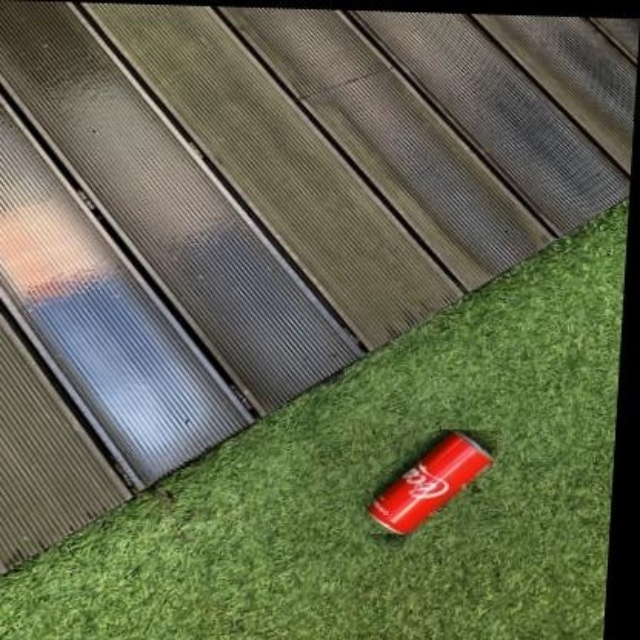trash: (369, 432, 491, 532)
